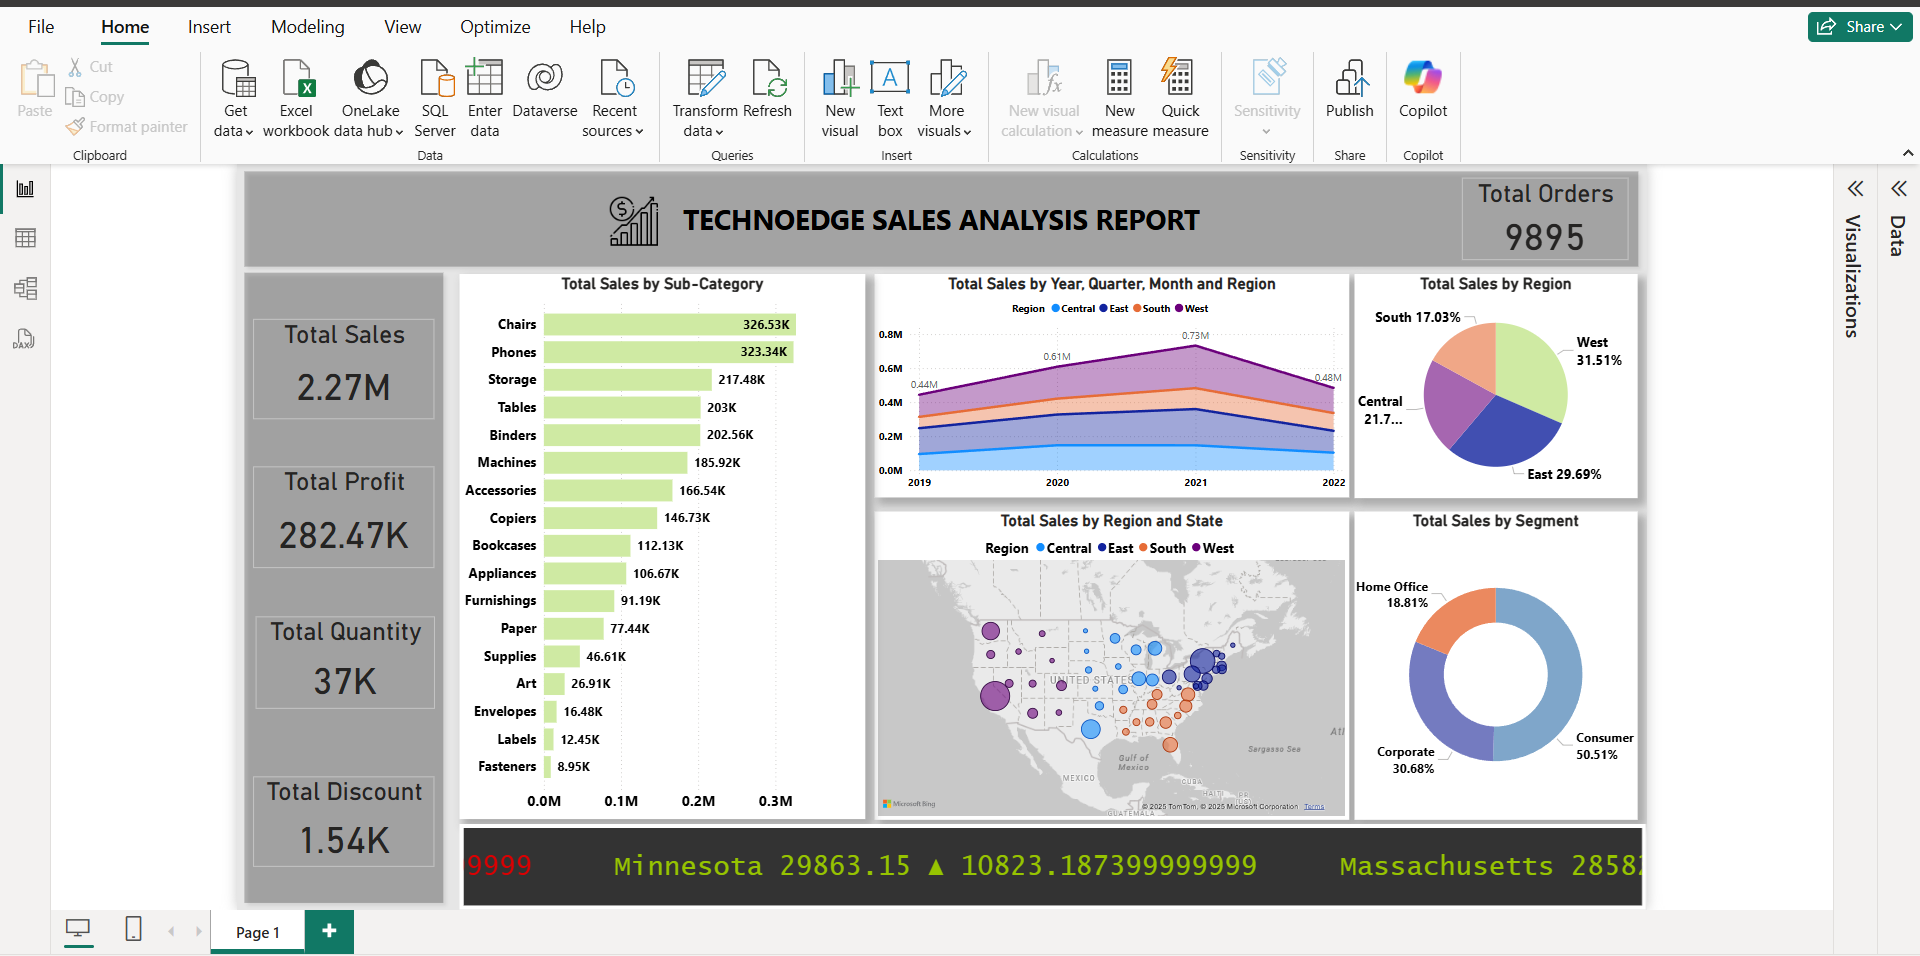

Layout of this report page (visuals, bound fields, positions):
{"tool":"powerbi","page":{"name":"Page 1","canvas":[1700,900],"ordinal":0},"visuals":[{"type":"shape","title":"TECHNOEDGE SALES ANALYSIS ","box":[0,0,1699.6,132.7],"z":0},{"type":"shape","box":[0,122.2,257.9,778.2],"z":1000},{"type":"card","title":"Total Sales","fields":{"Values":["Sum(Monthly Sales combined data.Sales)"]},"box":[19.6,187,218.7,120.6],"z":2000},{"type":"card","title":"Total Profit","fields":{"Values":["Sum(Monthly Sales combined data.Profit)"]},"box":[19.6,364.9,218.7,122.2],"z":3000},{"type":"card","title":"Total  Quantity","fields":{"Values":["Sum(Monthly Sales combined data.Quantity)"]},"box":[22.6,545.9,215.7,111.6],"z":4000},{"type":"card","title":"Total Discount","fields":{"Values":["Sum(Monthly Sales combined data.Discount)"]},"box":[19.6,738.9,218.7,108.6],"z":5000},{"type":"stackedAreaChart","title":"Total Sales by Year, Quarter, Month and Region","fields":{"Y":["Sum(Monthly Sales combined data.Sales)"],"Series":["Monthly Sales combined data.Region"],"Category":["Monthly Sales combined data.Order Date.Variation.Date Hierarchy.Year","Monthly Sales combined data.Order Date.Variation.Date Hierarchy.Quarter","Monthly Sales combined data.Order Date.Variation.Date Hierarchy.Month","Monthly Sales combined data.Order Date.Variation.Date Hierarchy.Day"]},"box":[769.1,132.7,573.1,269.9],"z":6000},{"type":"map","title":"Total Sales by Region and State","fields":{"Category":["Monthly Sales combined data.State"],"Size":["Sum(Monthly Sales combined data.Sales)"],"Series":["Monthly Sales combined data.Region"]},"box":[769.1,418.5,572.9,372.2],"z":7000},{"type":"clusteredBarChart","title":"Total Sales by Sub-Category","fields":{"Category":["Monthly Sales combined data.Sub-Category"],"Y":["Sum(Monthly Sales combined data.Sales)"]},"box":[268.7,132.8,489.6,657.9],"z":8000},{"type":"pieChart","title":"Total Sales by Region","fields":{"Category":["Monthly Sales combined data.Region"],"Y":["Sum(Monthly Sales combined data.Sales)"]},"box":[1348.2,132.8,341.3,270.3],"z":9000},{"type":"donutChart","title":"Total Sales by Segment","fields":{"Category":["Monthly Sales combined data.Segment"],"Y":["Sum(Monthly Sales combined data.Sales)"]},"box":[1348.2,418.5,341.3,372.2],"z":10000},{"type":"ScrollingTextVisual1448795304508","fields":{"Category":["Monthly Sales combined data.State"],"Measure Absolute":["Sum(Monthly Sales combined data.Sales)"],"Measure Deviation":["Sum(Monthly Sales combined data.Profit)"]},"box":[268.7,796.9,1431.6,103.5],"z":11000},{"type":"card","title":"Total Orders","fields":{"Values":["CountNonNull(Monthly Sales combined data.Order ID)"]},"box":[1477.9,16.6,200.6,99.5],"z":12000},{"type":"image","box":[444.9,34.7,69.4,69.4],"z":13000}]}

Visuals, with their boxes on the page's 1700x900 design canvas (x1, y1, x2, y2). These are canvas units, not pixel positions in the 1920x956 screenshot, which may show the page scaled, cropped or inside an application window:
"TECHNOEDGE SALES ANALYSIS " shape: Rect(0, 0, 1700, 133)
shape: Rect(0, 122, 258, 900)
"Total Sales" card: Rect(20, 187, 238, 308)
"Total Profit" card: Rect(20, 365, 238, 487)
"Total  Quantity" card: Rect(23, 546, 238, 658)
"Total Discount" card: Rect(20, 739, 238, 848)
"Total Sales by Year, Quarter, Month and Region" stackedAreaChart: Rect(769, 133, 1342, 403)
"Total Sales by Region and State" map: Rect(769, 418, 1342, 791)
"Total Sales by Sub-Category" clusteredBarChart: Rect(269, 133, 758, 791)
"Total Sales by Region" pieChart: Rect(1348, 133, 1690, 403)
"Total Sales by Segment" donutChart: Rect(1348, 418, 1690, 791)
ScrollingTextVisual1448795304508 - Monthly Sales combined data.State x Sum(Monthly Sales combined data.Sales): Rect(269, 797, 1700, 900)
"Total Orders" card: Rect(1478, 17, 1678, 116)
image: Rect(445, 35, 514, 104)
